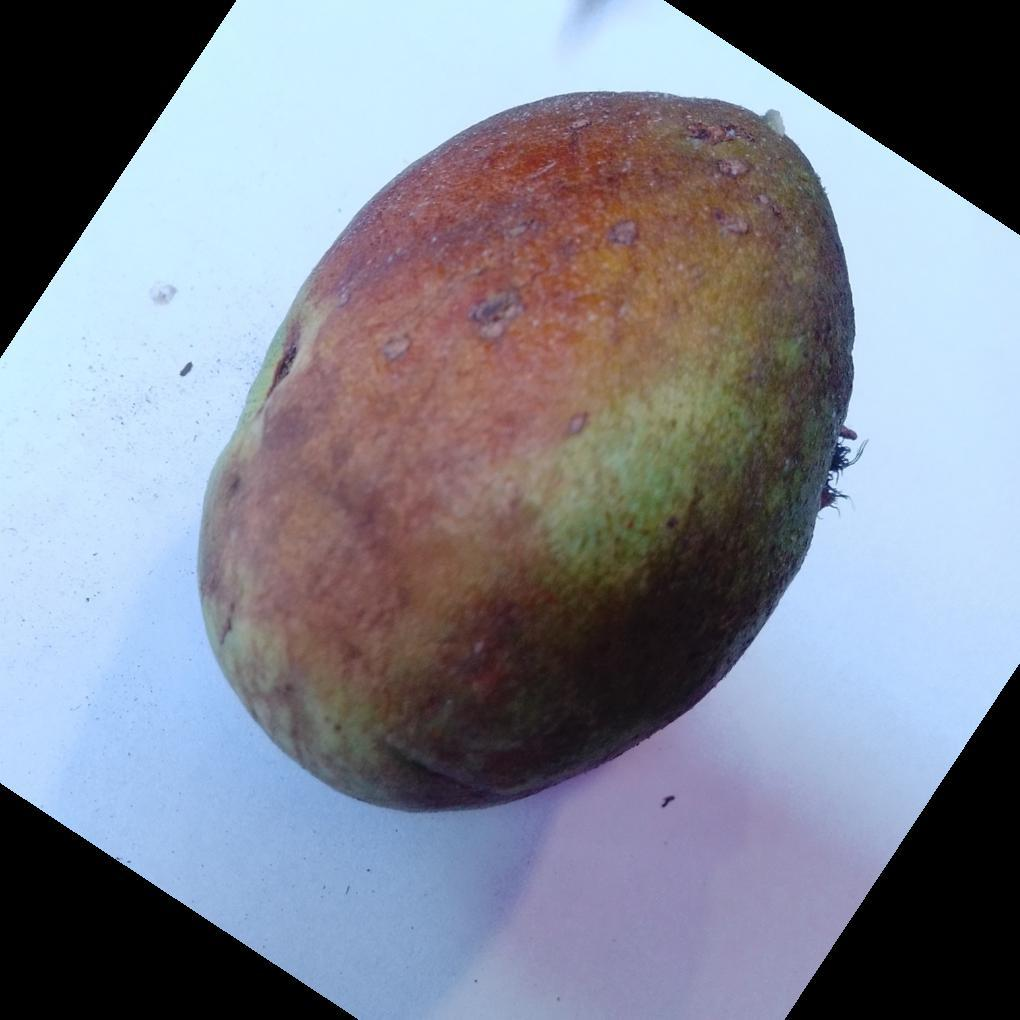FreshOrange: (196, 92, 857, 817)
